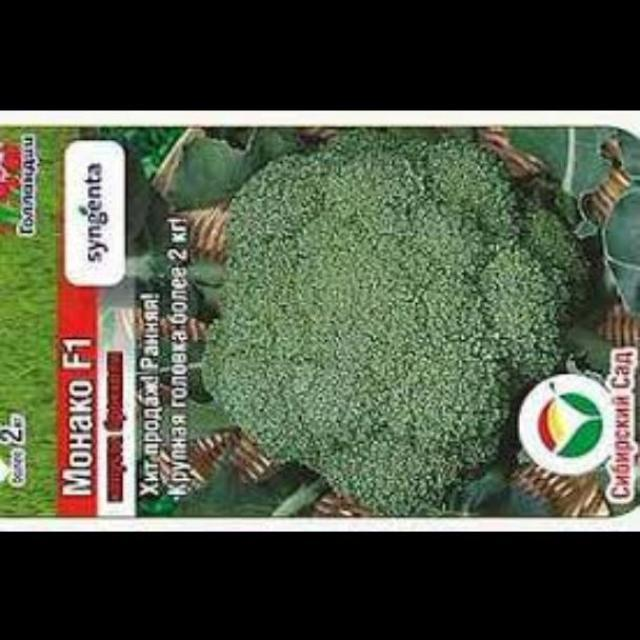Broccoli: (200, 125, 598, 518)
